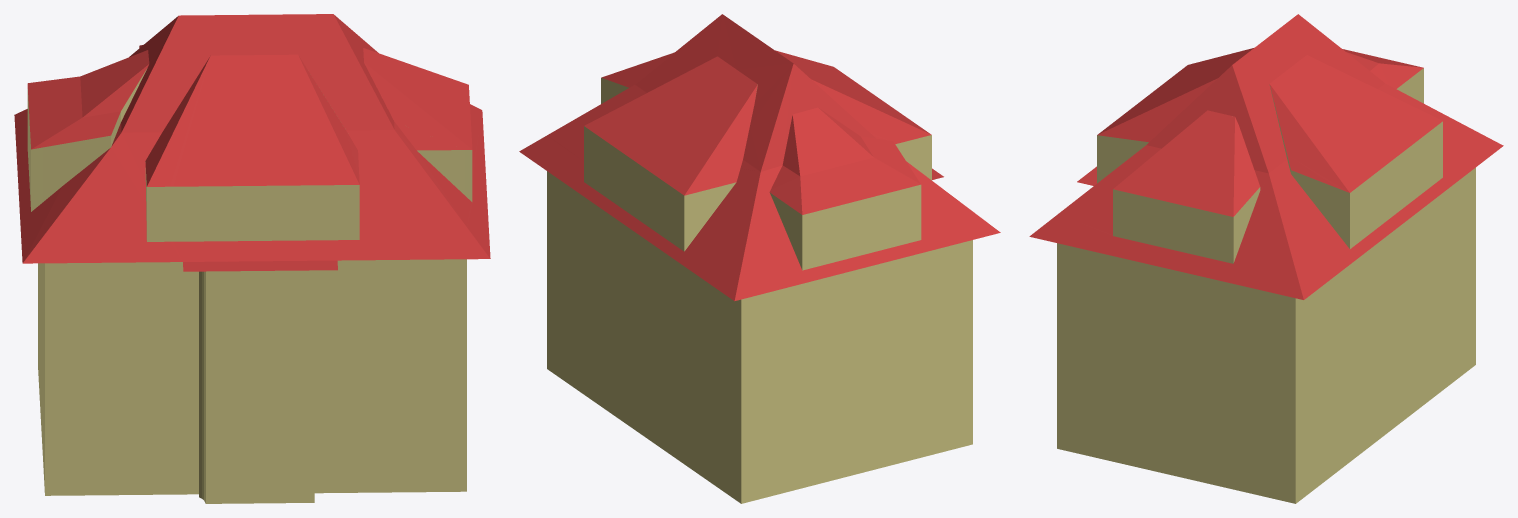
The picture shows the model from 3 angles, left to right: view 1: azimuth 30°, elevation 25°; view 2: azimuth 150°, elevation 25°; view 3: azimuth 270°, elevation 25°; orthographic projection. The views are drawn at different scales.
Parts seen in each view (by area): view 1: group_13, group_3, group_8, group_9, group_4, group_10, group_12, group_5, group_11; view 2: group_13, group_3, group_6, group_4, group_5, group_7, group_12, group_8, group_9, group_10; view 3: group_13, group_3, group_6, group_10, group_7, group_12, group_11, group_8, group_9, group_4.
Boxes of the visible parts, bbox=[...] form: group_13: bbox=[38, 259, 466, 503]; group_3: bbox=[14, 14, 490, 271]; group_8: bbox=[145, 54, 359, 186]; group_9: bbox=[145, 162, 359, 241]; group_4: bbox=[27, 50, 149, 149]; group_10: bbox=[363, 48, 472, 150]; group_12: bbox=[14, 104, 482, 271]; group_5: bbox=[27, 68, 147, 211]; group_11: bbox=[417, 150, 472, 201]; group_13: bbox=[547, 171, 972, 503]; group_3: bbox=[526, 14, 1000, 300]; group_6: bbox=[584, 56, 757, 195]; group_4: bbox=[769, 107, 920, 214]; group_5: bbox=[770, 184, 921, 270]; group_7: bbox=[584, 84, 757, 251]; group_12: bbox=[519, 136, 994, 301]; group_8: bbox=[775, 50, 931, 143]; group_9: bbox=[895, 135, 931, 180]; group_10: bbox=[601, 52, 674, 87]; group_13: bbox=[1057, 167, 1475, 503]; group_3: bbox=[1029, 14, 1474, 299]; group_6: bbox=[1269, 55, 1442, 192]; group_10: bbox=[1113, 110, 1260, 216]; group_7: bbox=[1269, 85, 1442, 248]; group_12: bbox=[1060, 131, 1503, 299]; group_11: bbox=[1113, 187, 1260, 263]; group_8: bbox=[1097, 48, 1253, 142]; group_9: bbox=[1097, 135, 1148, 183]; group_4: bbox=[1342, 49, 1423, 88].
Size of the model in its own units: 18.91 by 17.41 by 14.91.
